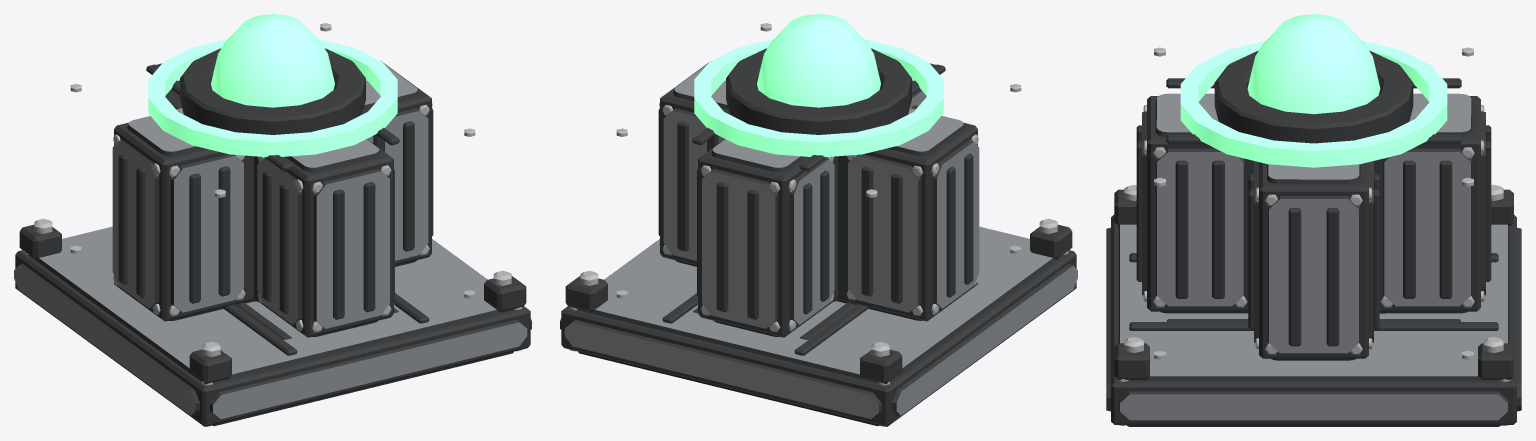
Rendered from R4X_RepairPulse.fbx.
The picture shows the model from 3 angles, left to right: view 1: azimuth 30°, elevation 25°; view 2: azimuth 150°, elevation 25°; view 3: azimuth 270°, elevation 25°; orthographic projection. The views are drawn at different scales.
Parts seen in each view (by area): view 1: R4X_RepairPulse_Body; view 2: R4X_RepairPulse_Body; view 3: R4X_RepairPulse_Body.
Part boxes in pixels (<box>): R4X_RepairPulse_Body: <box>14,14,531,426</box>; R4X_RepairPulse_Body: <box>560,14,1077,426</box>; R4X_RepairPulse_Body: <box>1106,14,1521,426</box>.
Size of the model in its own units: 0.52 by 0.4513 by 0.52.
